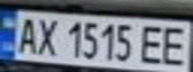1: (97, 20, 118, 61), (63, 18, 84, 58)
5: (115, 20, 139, 63), (78, 19, 100, 60)
A: (12, 13, 42, 55)
E: (157, 23, 193, 66), (136, 22, 169, 65)
X: (33, 15, 60, 56)
